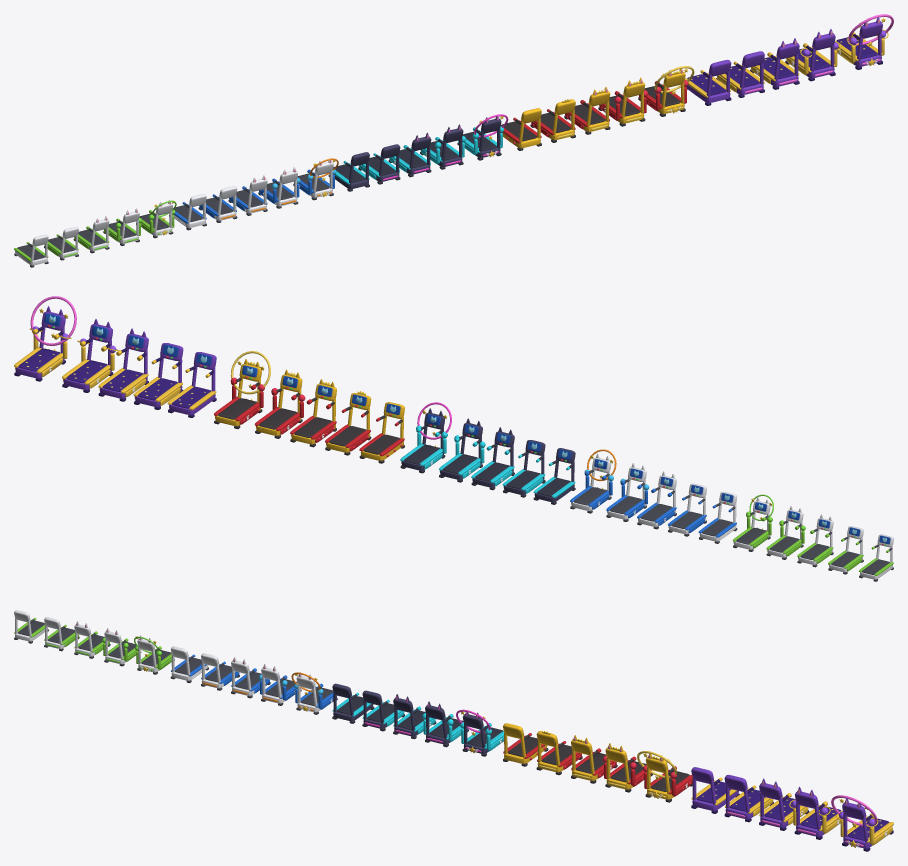
The model's file is Treadmills.fbx.
The picture shows the model from 3 angles, top to bottom: view 1: azimuth 30°, elevation 25°; view 2: azimuth 150°, elevation 25°; view 3: azimuth 330°, elevation 25°; orthographic projection.
Visible parts, largest first — view 1: Treadmill25, Treadmill20, Treadmill24, Treadmill23, Treadmill19, Treadmill15, Treadmill21, Treadmill22, Treadmill18, Treadmill17, Treadmill14, Treadmill16 (+13 smaller); view 2: Treadmill25, Treadmill20, Treadmill24, Treadmill15, Treadmill23, Treadmill19, Treadmill22, Treadmill21, Treadmill18, Treadmill10, Treadmill14, Treadmill17 (+13 smaller); view 3: Treadmill25, Treadmill20, Treadmill24, Treadmill15, Treadmill22, Treadmill19, Treadmill23, Treadmill21, Treadmill18, Treadmill17, Treadmill10, Treadmill14 (+13 smaller).
Part boxes in pixels (bbox=[...]): Treadmill25: bbox=[835, 14, 893, 69]; Treadmill20: bbox=[638, 66, 694, 116]; Treadmill24: bbox=[785, 29, 841, 81]; Treadmill23: bbox=[750, 38, 799, 89]; Treadmill19: bbox=[598, 77, 647, 126]; Treadmill15: bbox=[457, 114, 508, 160]; Treadmill21: bbox=[685, 59, 731, 105]; Treadmill22: bbox=[716, 51, 764, 97]; Treadmill18: bbox=[564, 87, 610, 134]; Treadmill17: bbox=[530, 99, 575, 142]; Treadmill14: bbox=[420, 124, 465, 169]; Treadmill16: bbox=[501, 108, 541, 150]; Treadmill25: bbox=[14, 296, 76, 381]; Treadmill20: bbox=[214, 351, 270, 429]; Treadmill24: bbox=[62, 319, 118, 392]; Treadmill15: bbox=[400, 402, 451, 473]; Treadmill23: bbox=[98, 328, 148, 401]; Treadmill19: bbox=[254, 369, 305, 438]; Treadmill22: bbox=[133, 343, 183, 409]; Treadmill21: bbox=[167, 352, 216, 417]; Treadmill18: bbox=[290, 379, 336, 447]; Treadmill10: bbox=[570, 449, 616, 513]; Treadmill14: bbox=[439, 418, 485, 482]; Treadmill17: bbox=[325, 391, 371, 455]; Treadmill25: bbox=[831, 795, 893, 851]; Treadmill20: bbox=[637, 751, 692, 802]; Treadmill24: bbox=[789, 786, 841, 839]; Treadmill15: bbox=[456, 709, 503, 756]; Treadmill22: bbox=[724, 774, 773, 822]; Treadmill19: bbox=[602, 743, 652, 792]; Treadmill23: bbox=[759, 778, 809, 830]; Treadmill21: bbox=[691, 767, 739, 813]; Treadmill18: bbox=[571, 735, 617, 783]; Treadmill17: bbox=[536, 730, 582, 775]; Treadmill10: bbox=[291, 672, 337, 714]; Treadmill14: bbox=[422, 701, 468, 747].
Size of the model in its own units: 114 by 7.27 by 7.83.
1 material, 1 textured.
